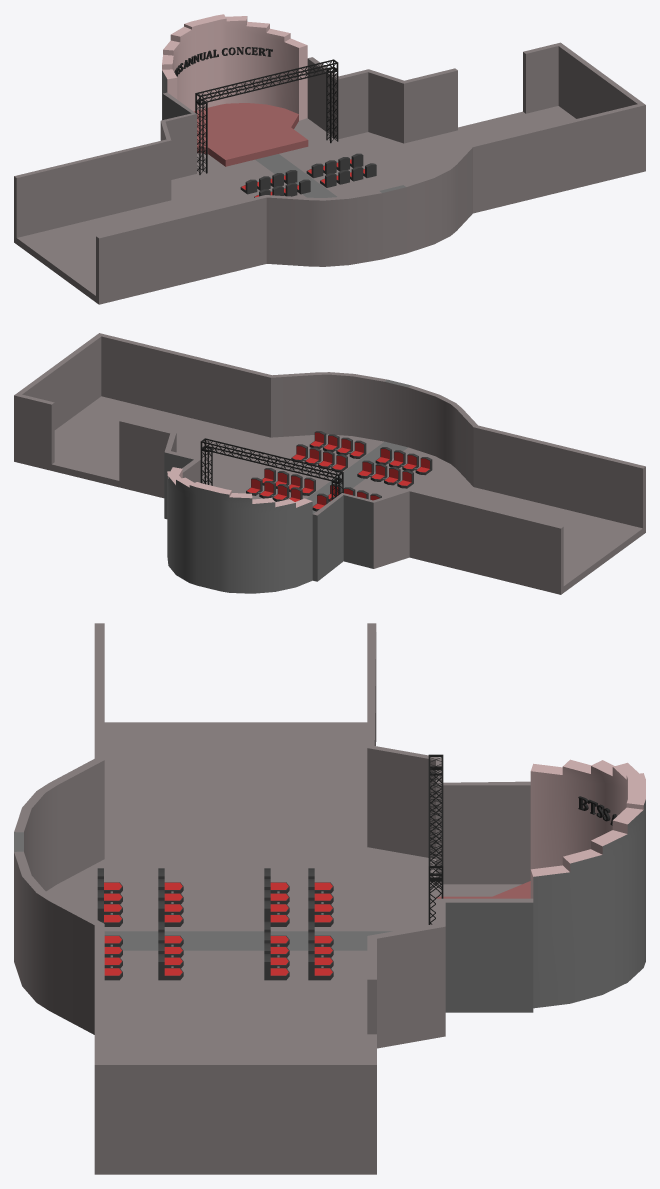
The model's file is Stage.fbx.
The picture shows the model from 3 angles, top to bottom: view 1: azimuth 30°, elevation 25°; view 2: azimuth 150°, elevation 25°; view 3: azimuth 270°, elevation 25°; orthographic projection. The views are drawn at different scales.
Visible parts, largest first — view 1: Stage; view 2: Stage; view 3: Stage.
Boxes of the visible parts, x1,y1,x2,y2 form: Stage: (14,14,645,304); Stage: (14,333,645,594); Stage: (14,623,645,1174).
Size of the model in its own units: 4289 by 736 by 2593.
